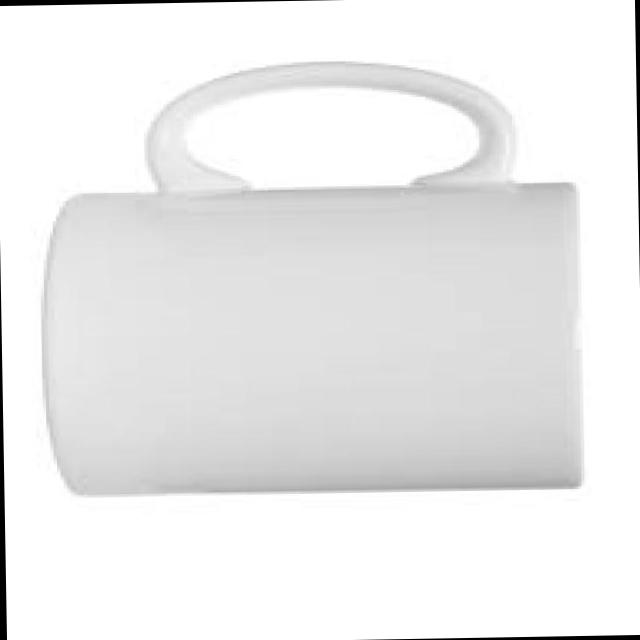Coffee Mug: (39, 61, 582, 503)
